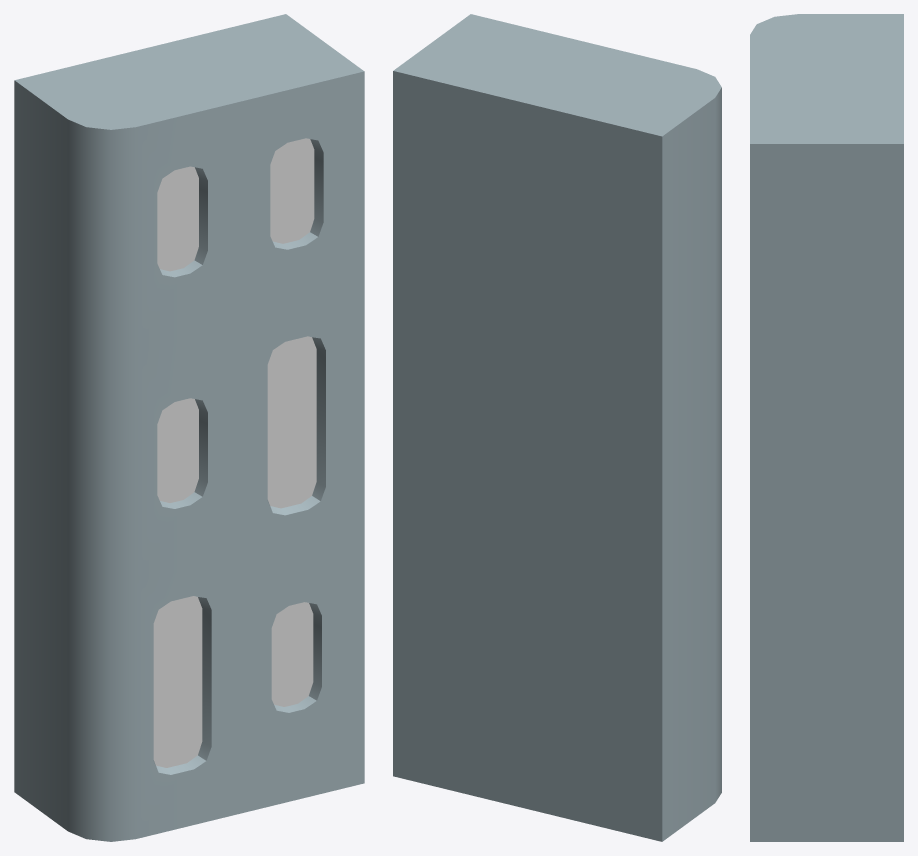
The model's file is BackLeft_SmallLight.fbx.
3 renders of one model, left to right at view 1: azimuth 30°, elevation 25°; view 2: azimuth 150°, elevation 25°; view 3: azimuth 270°, elevation 25°, orthographic. The views are drawn at different scales.
Visible parts, largest first — view 1: BackLeft_SmallLight; view 2: BackLeft_SmallLight; view 3: BackLeft_SmallLight.
Boxes of the visible parts, left/top/right/bottom form: BackLeft_SmallLight: left=14, top=14, right=364, bottom=841; BackLeft_SmallLight: left=393, top=14, right=721, bottom=841; BackLeft_SmallLight: left=750, top=14, right=903, bottom=841.
Size of the model in its own units: 200 by 501 by 100.
